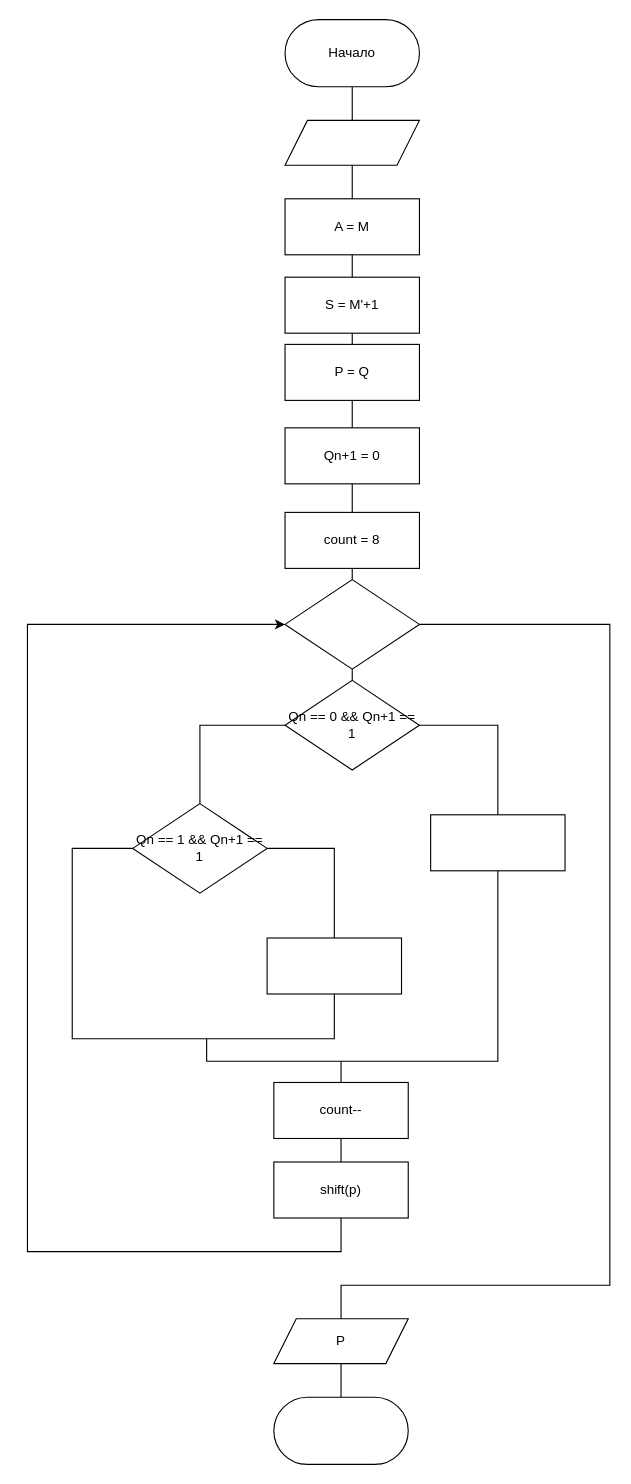
This 631x1484 diagram has some shape labels left out. Each missing label, with the centre of its shape:
count > 0: point 351,623
M, Q: point 351,142
P = P + A: point 497,842
P = P + S: point 334,965
Конец: point 340,1430
